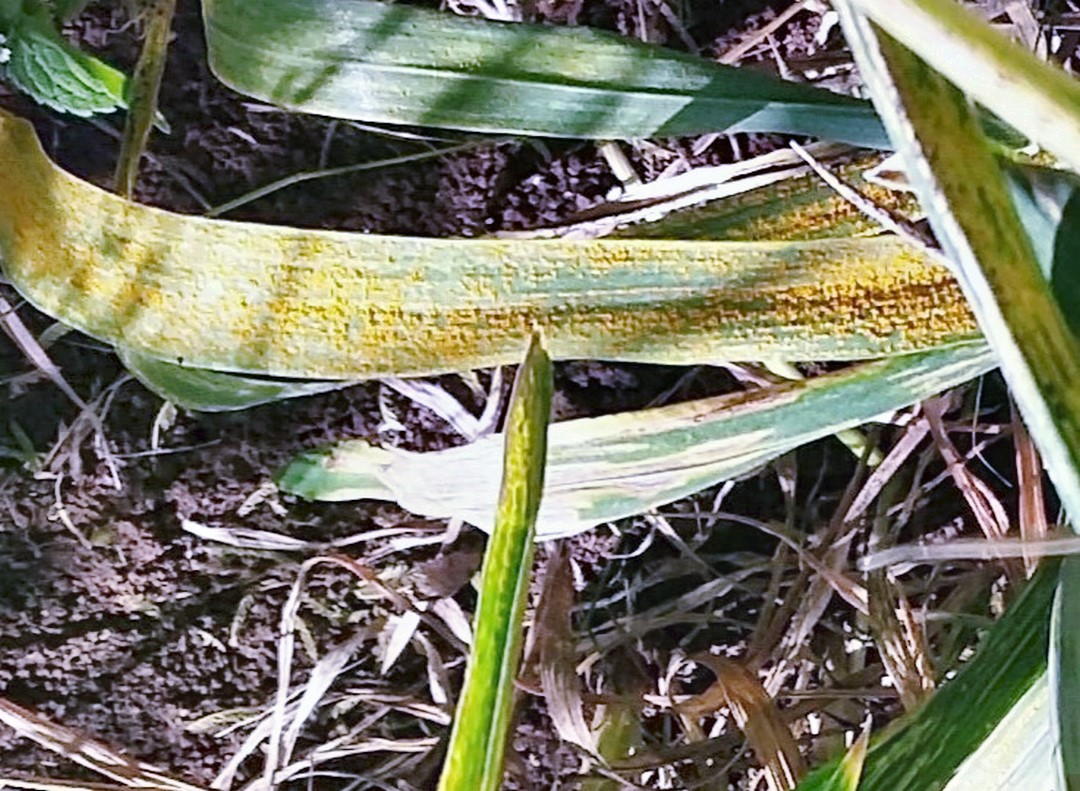Leaf Rust: (43, 178, 927, 373)
